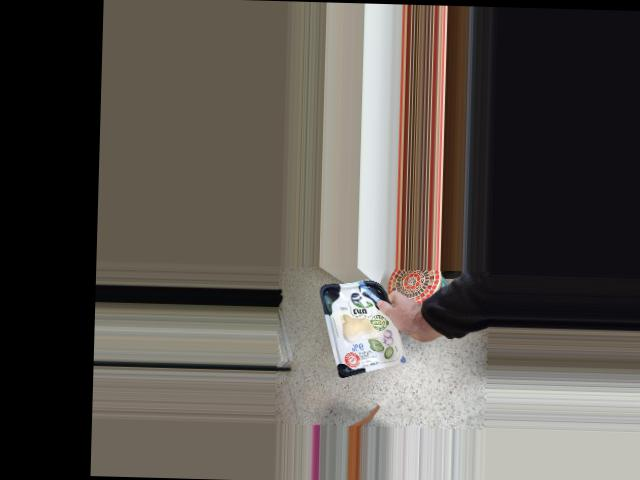cheese: (317, 277, 407, 374)
